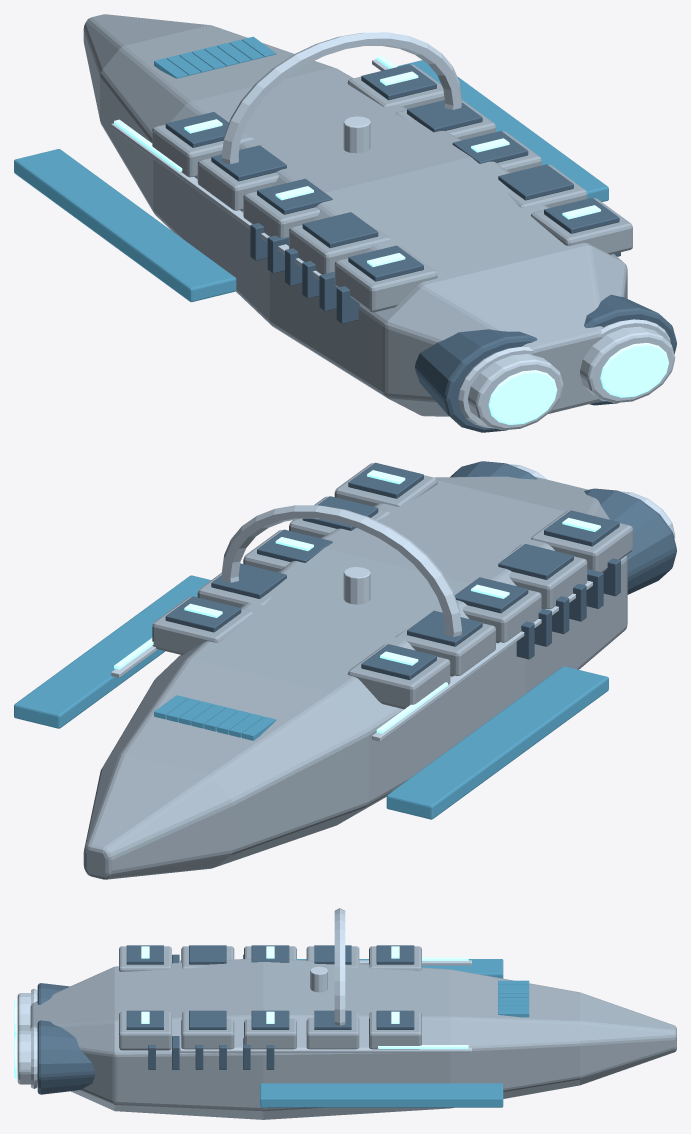
The model's file is frigate_lantern.glb.
3 views of the same model, one above another, from view 1: azimuth 30°, elevation 25°; view 2: azimuth 150°, elevation 25°; view 3: azimuth 270°, elevation 25° (orthographic). The views are drawn at different scales.
Visible parts, largest first — view 1: council_hull.001, council_dark.001, council_glass.001, council_trim.001, council_glow.001; view 2: council_hull.001, council_dark.001, council_glass.001, council_trim.001, council_glow.001; view 3: council_hull.001, council_dark.001, council_glass.001, council_trim.001, council_glow.001.
Boxes of the visible parts, x1,y1,x2,y2 form: council_hull.001: (83, 14, 632, 416); council_dark.001: (165, 64, 676, 432); council_glass.001: (14, 36, 608, 302); council_trim.001: (111, 32, 675, 430); council_glow.001: (114, 55, 668, 424); council_hull.001: (83, 463, 632, 879); council_dark.001: (165, 461, 676, 680); council_glass.001: (14, 575, 608, 819); council_trim.001: (111, 464, 675, 741); council_glow.001: (114, 470, 600, 733); council_hull.001: (30, 946, 676, 1119); council_dark.001: (37, 945, 414, 1094); council_glass.001: (260, 959, 529, 1107); council_trim.001: (17, 908, 471, 1088); council_glow.001: (14, 946, 468, 1078).
Bounding box in the file's own units: 14 × 8 × 28.
